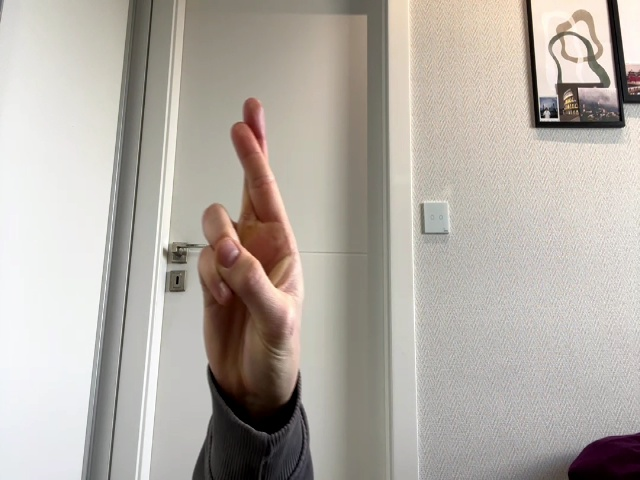R: (198, 98, 304, 390)
